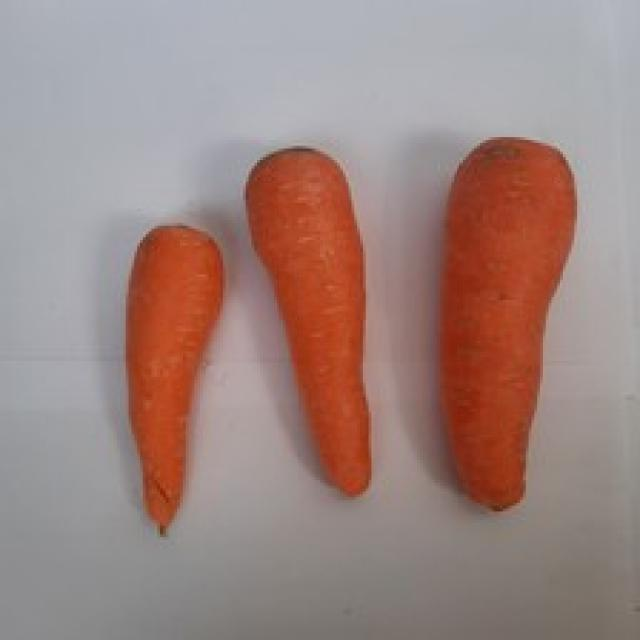carrot: (433, 137, 577, 514), (248, 147, 379, 497), (125, 223, 228, 527)
